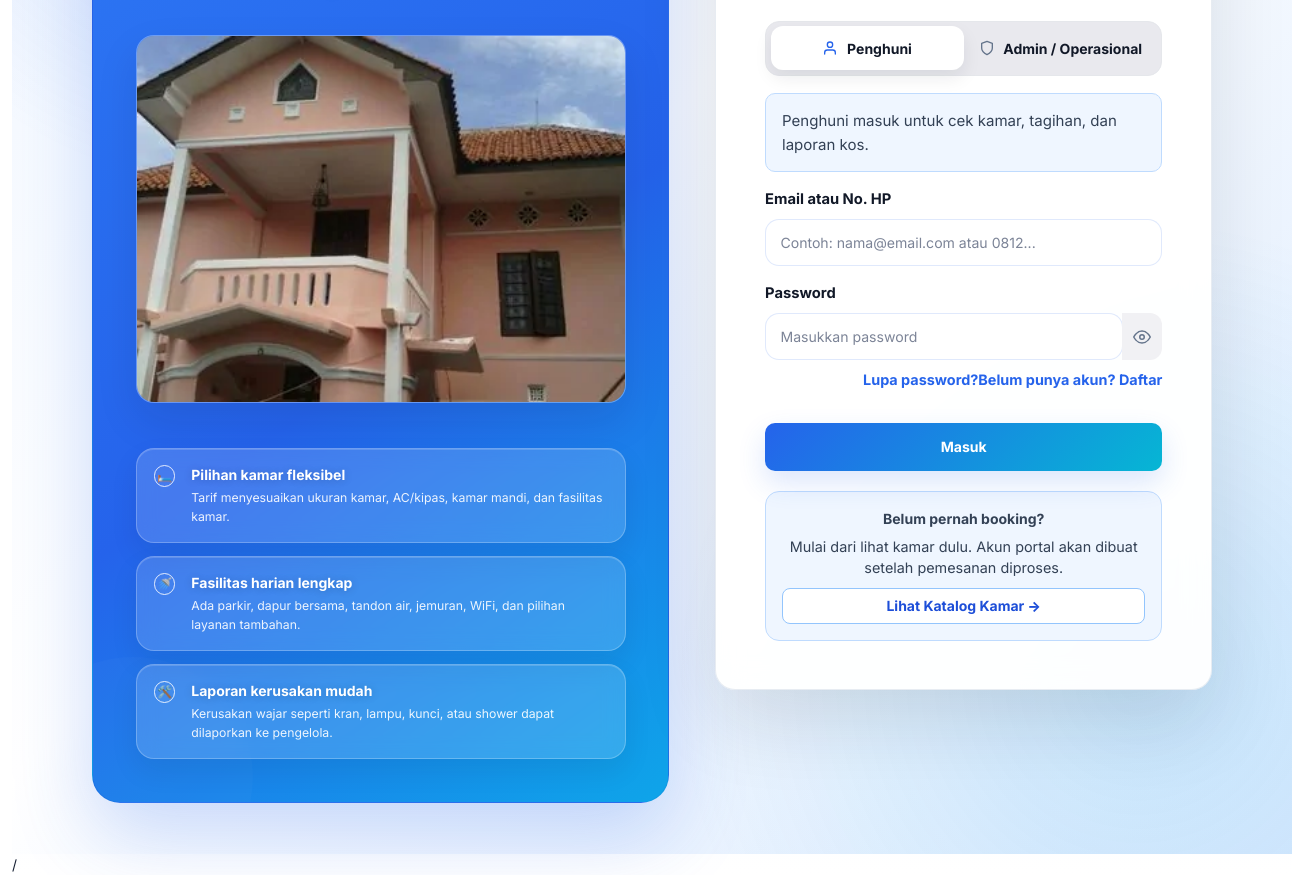
Scenario: Y-P2 — LoginPage (auth integration) › submit kosong → validasi, login tidak dipanggil
(page scrolled)
Click the button "Masuk".
click(964, 446)  # box 765,422 -> 1162,470
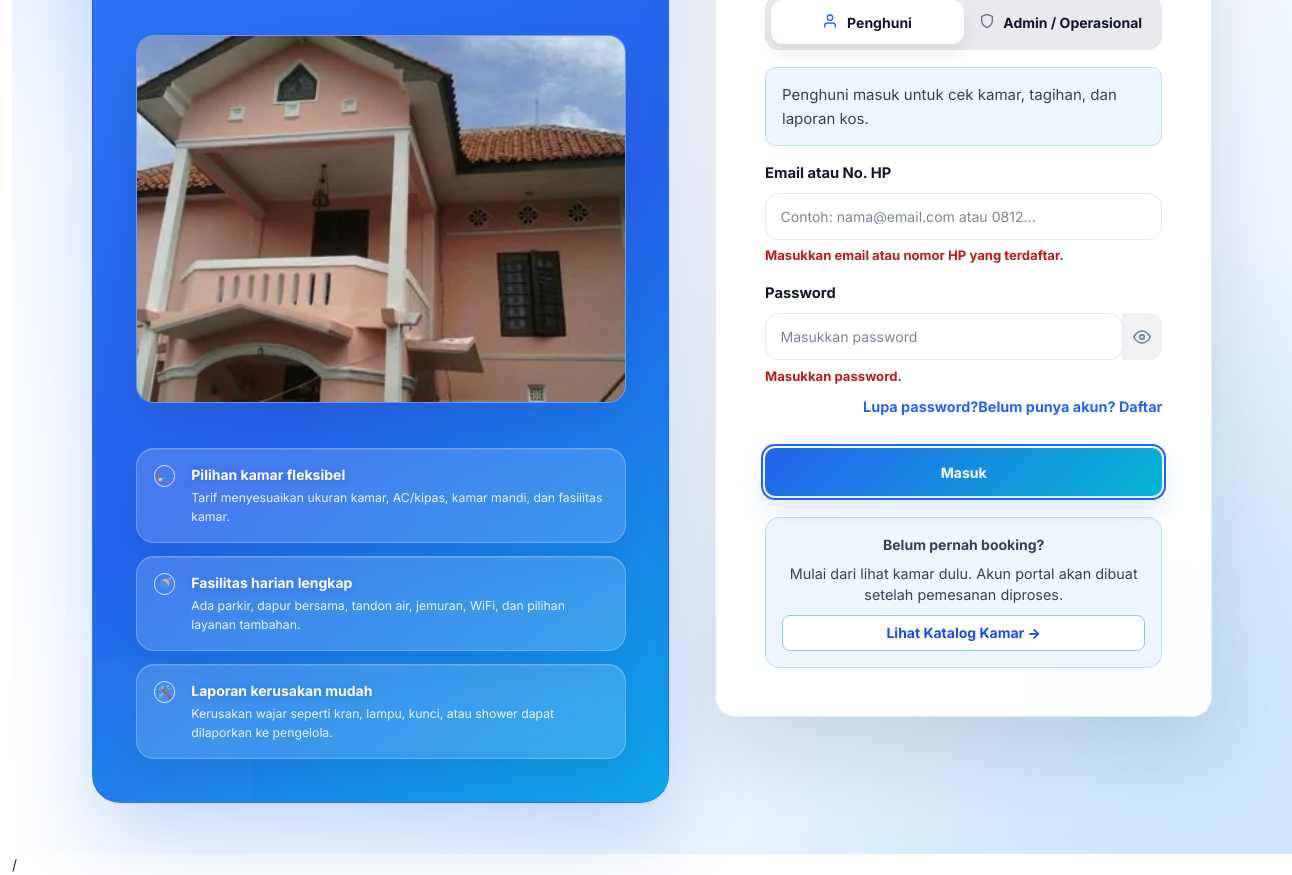
Check: the text "Masukkan email atau nomor HP yang terdaftar." is shown, box 765,248 -> 1064,264
